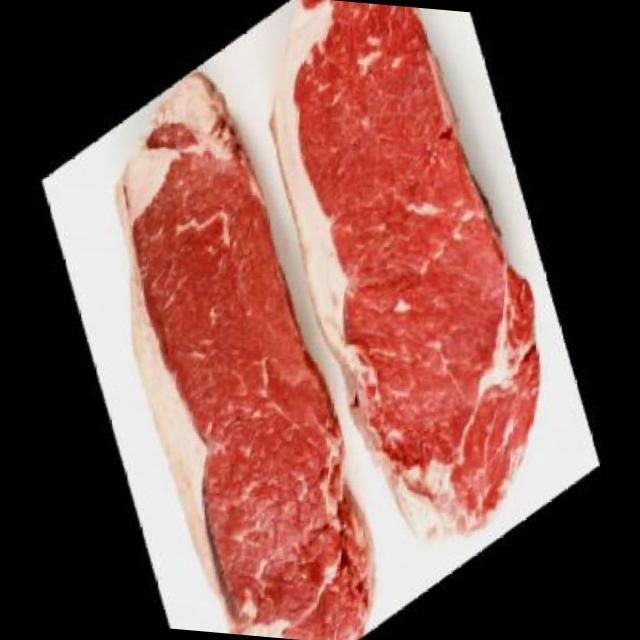beef: (187, 0, 618, 605), (32, 27, 444, 640)
